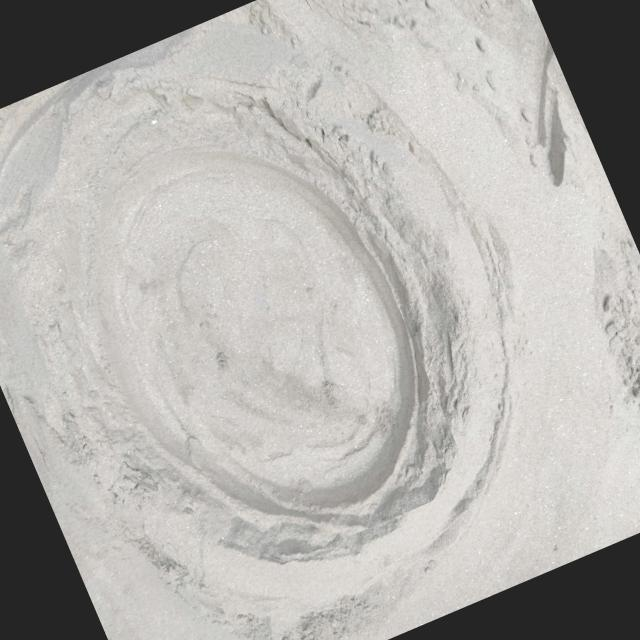C40: (97, 149, 428, 542)
